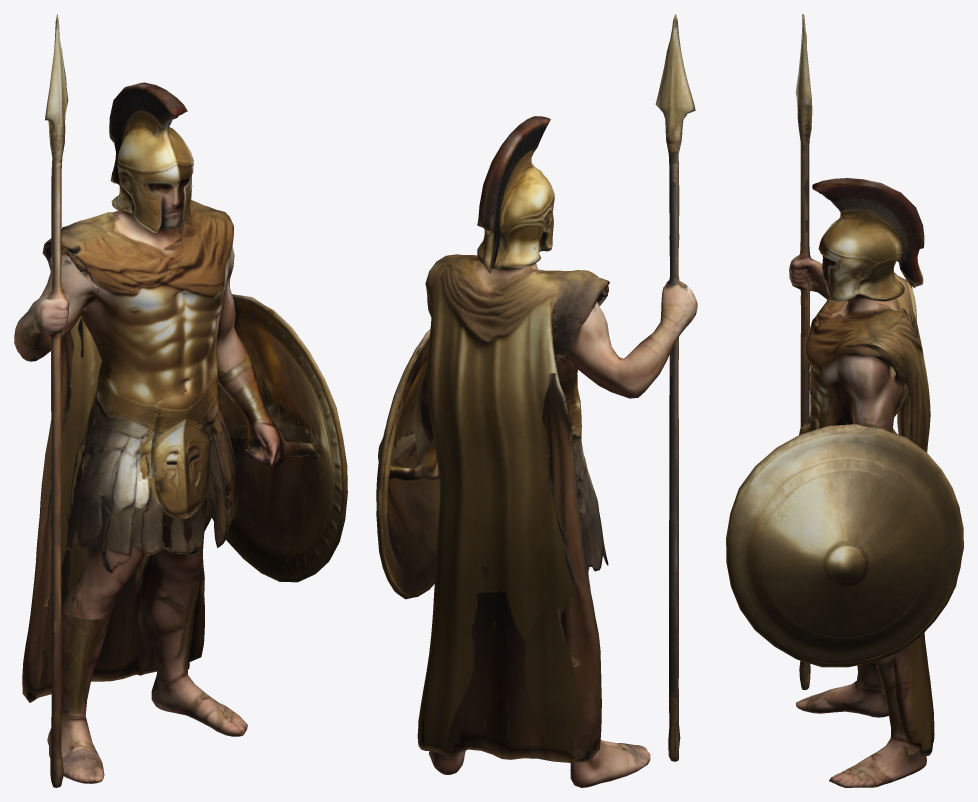
The model's file is greek-warrior-atrius.fbx.
3 renders of one model, left to right at view 1: azimuth 30°, elevation 25°; view 2: azimuth 150°, elevation 25°; view 3: azimuth 270°, elevation 25°, orthographic. The views are drawn at different scales.
Visible parts, largest first — view 1: Mesh1_Mesh1.053; view 2: Mesh1_Mesh1.053; view 3: Mesh1_Mesh1.053.
Part boxes in pixels (x1,y1,x2,y2): Mesh1_Mesh1.053: [14, 14, 347, 787]; Mesh1_Mesh1.053: [376, 14, 697, 787]; Mesh1_Mesh1.053: [726, 14, 963, 787].
Bounding box in the file's own units: 80.09 × 199 × 62.7.
Materials: 1 (1 with a texture image).
